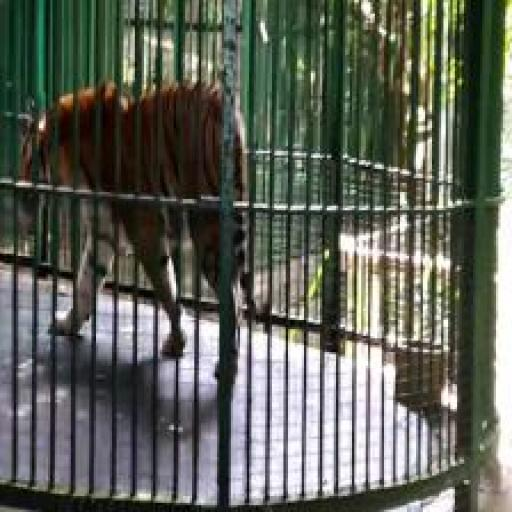Tiger: (9, 48, 263, 391)
